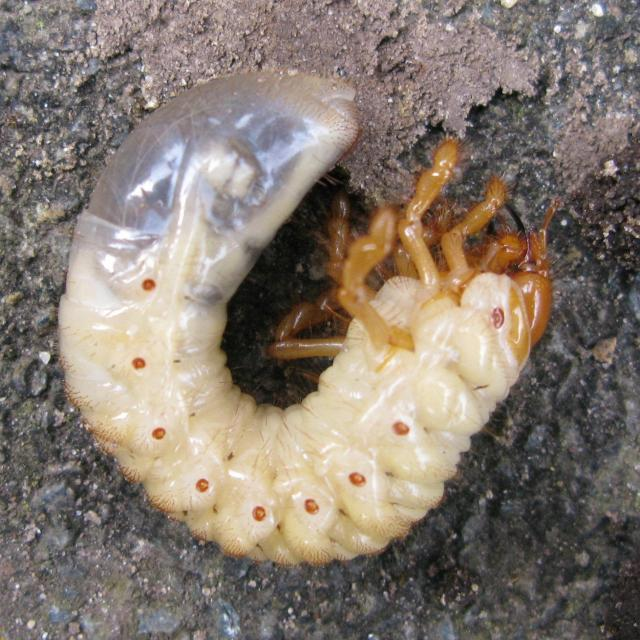Grub-Adult-: (56, 39, 570, 577)
